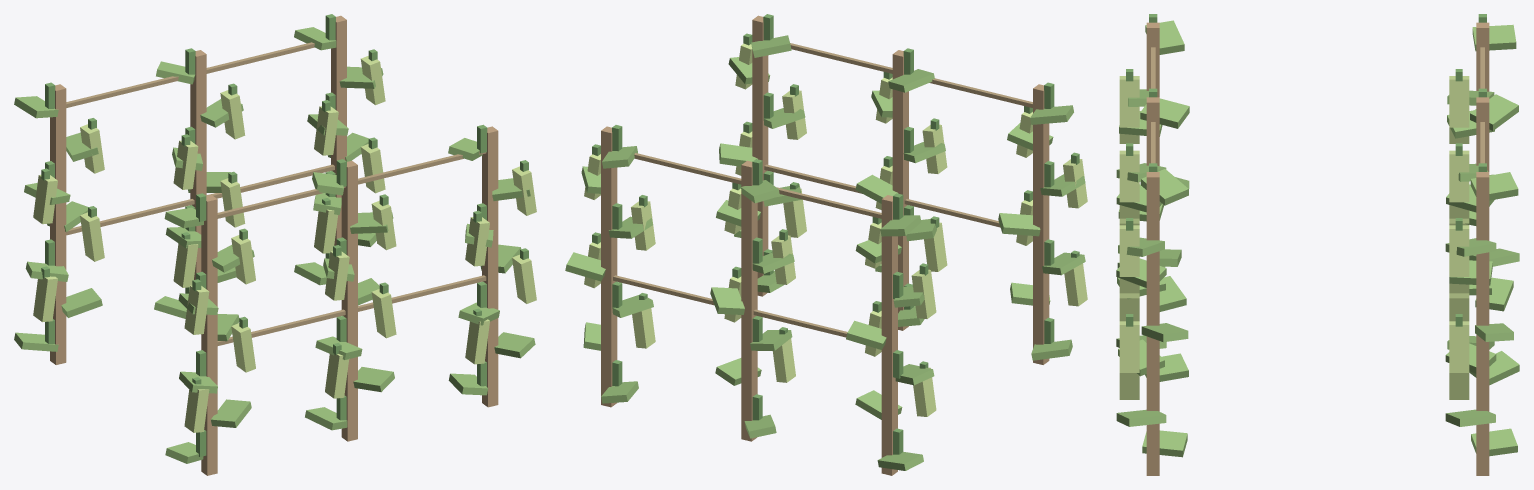
Rendered from crop_peas.glb.
The picture shows the model from 3 angles, left to right: view 1: azimuth 30°, elevation 25°; view 2: azimuth 150°, elevation 25°; view 3: azimuth 270°, elevation 25°; orthographic projection. The views are drawn at different scales.
Visible parts, largest first — view 1: leaf, pod, wood, leaf_dark, rope; view 2: leaf, wood, pod, leaf_dark, rope; view 3: leaf, pod, wood, leaf_dark, rope.
Boxes of the visible parts, box(x1,y1,x2,y2) form: leaf: box(14, 27, 535, 463); pod: box(33, 56, 536, 432); wood: box(50, 15, 498, 475); leaf_dark: box(41, 14, 528, 456); rope: box(66, 42, 486, 345); leaf: box(565, 35, 1085, 470); wood: box(601, 15, 1049, 475); pod: box(584, 43, 1087, 416); leaf_dark: box(592, 14, 1079, 454); rope: box(613, 43, 1032, 337); leaf: box(1116, 20, 1519, 457); pod: box(1119, 76, 1469, 399); wood: box(1146, 22, 1489, 475); leaf_dark: box(1126, 14, 1486, 326); rope: box(1151, 47, 1484, 163).
Bounding box in the file's own units: 0.7561 × 0.57 × 0.6859.
